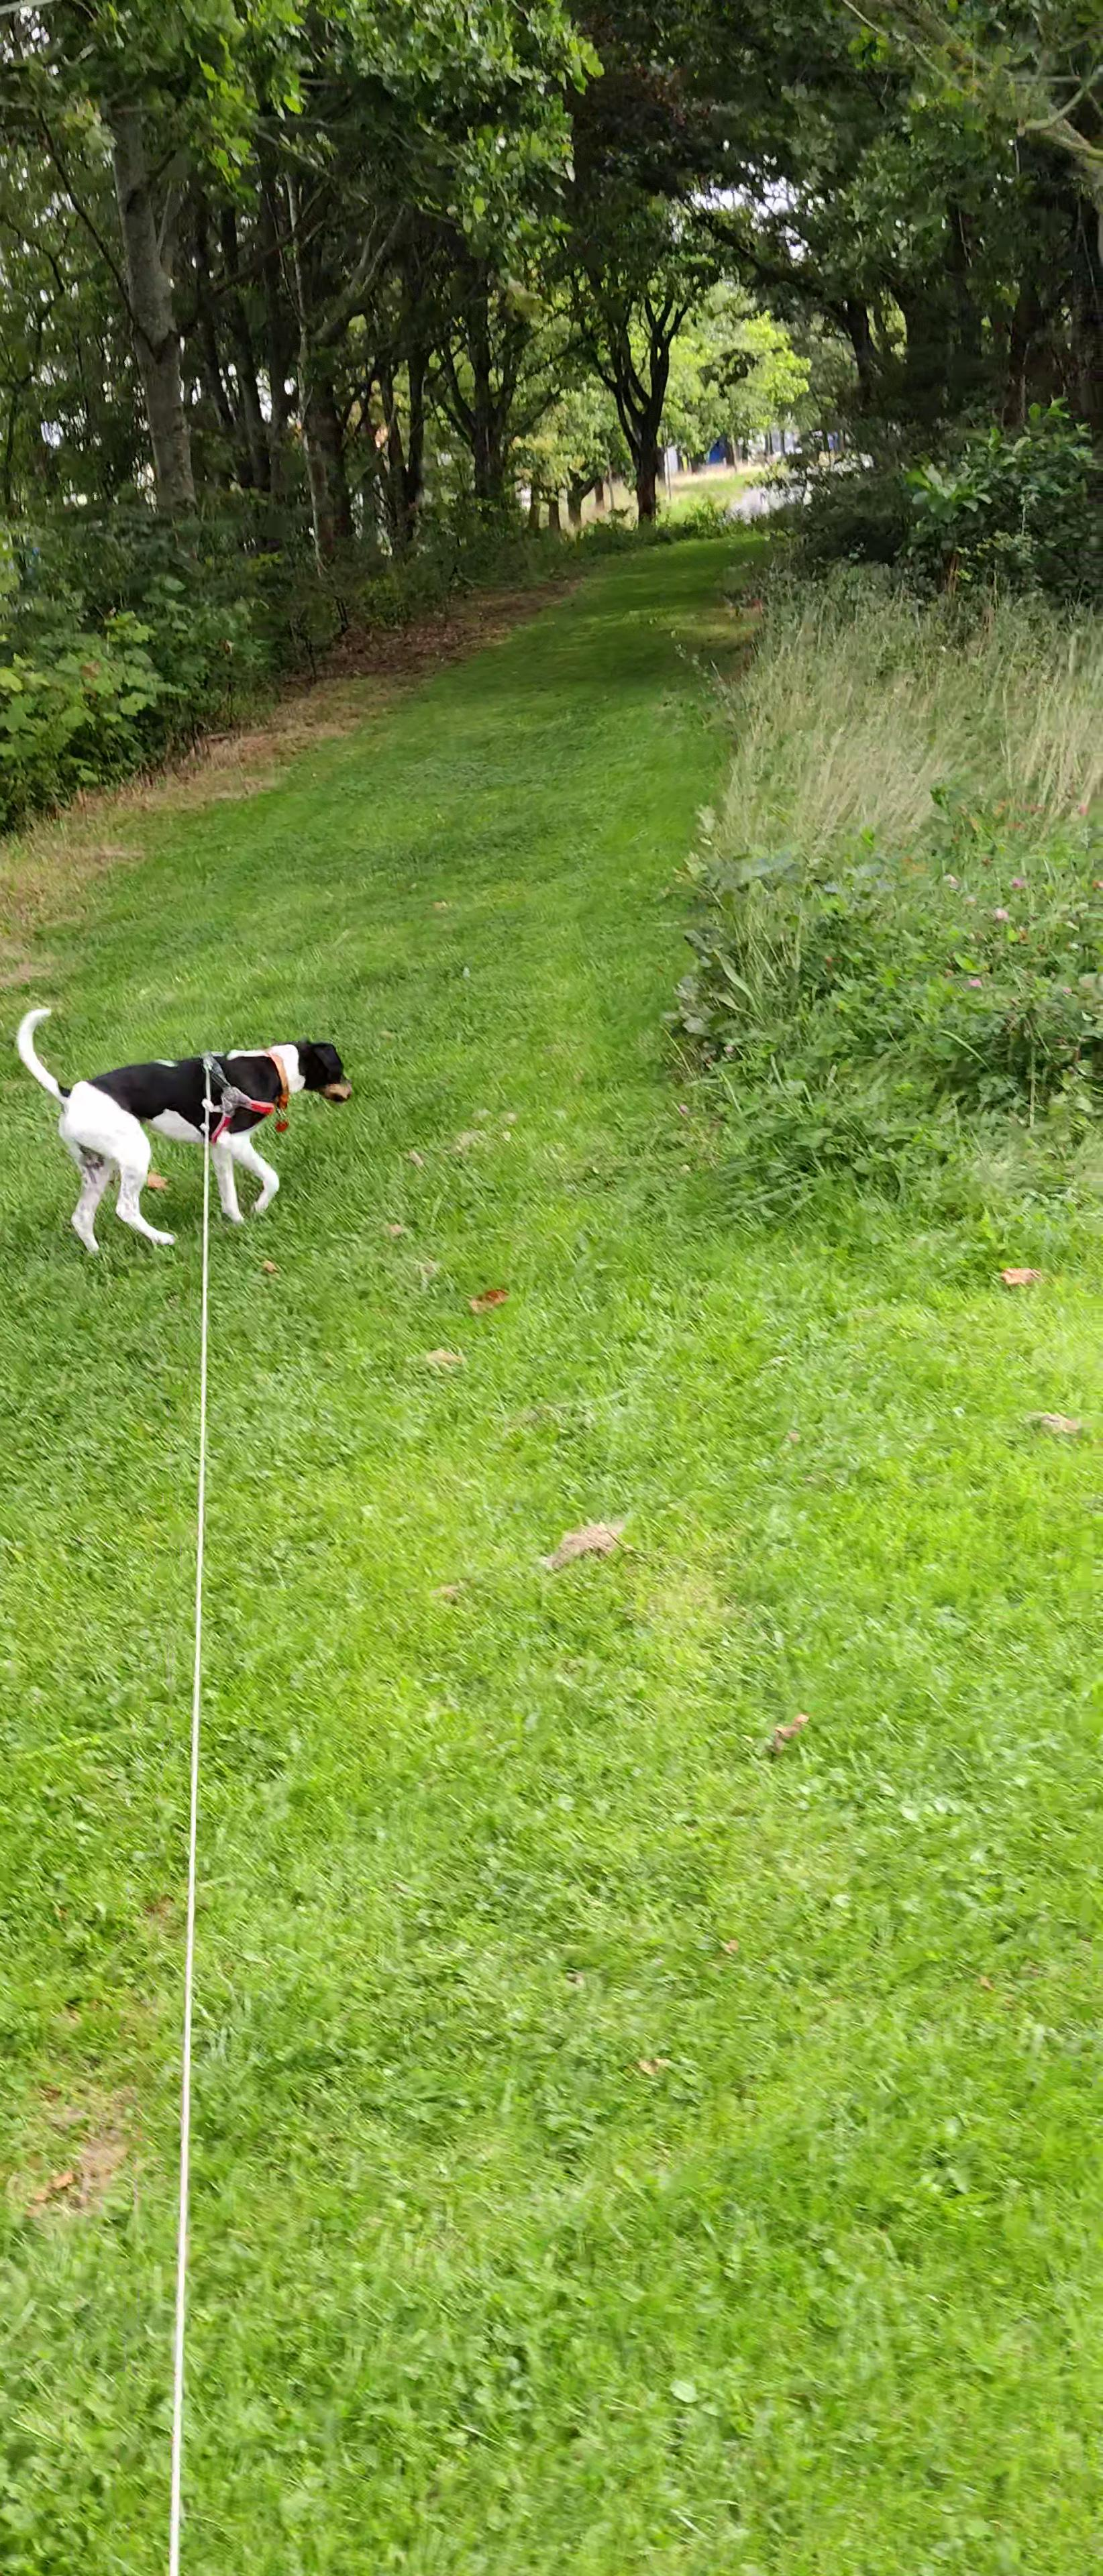Dog: (12, 1002, 358, 1252)
